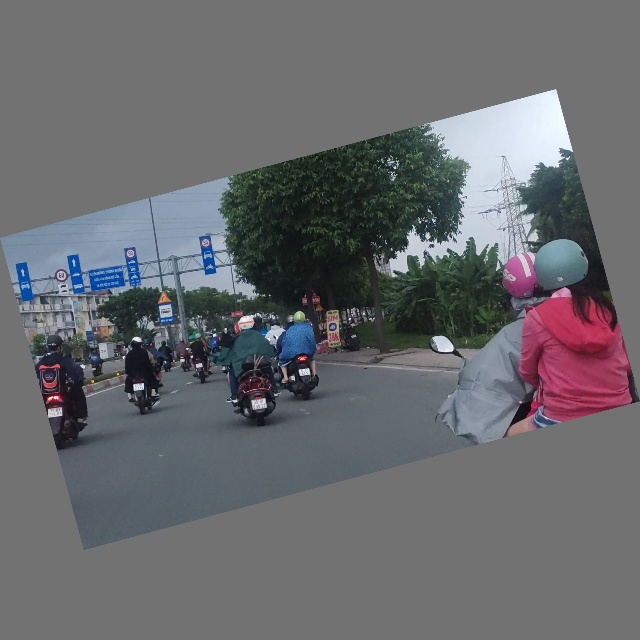I.434a: (156, 302, 176, 326)
P.127*50: (200, 237, 212, 249), (125, 248, 137, 260)
P.127*60: (53, 268, 70, 284)
S.505a*Xe tai va cong: (56, 282, 71, 297)
W.201b: (155, 291, 172, 307)
